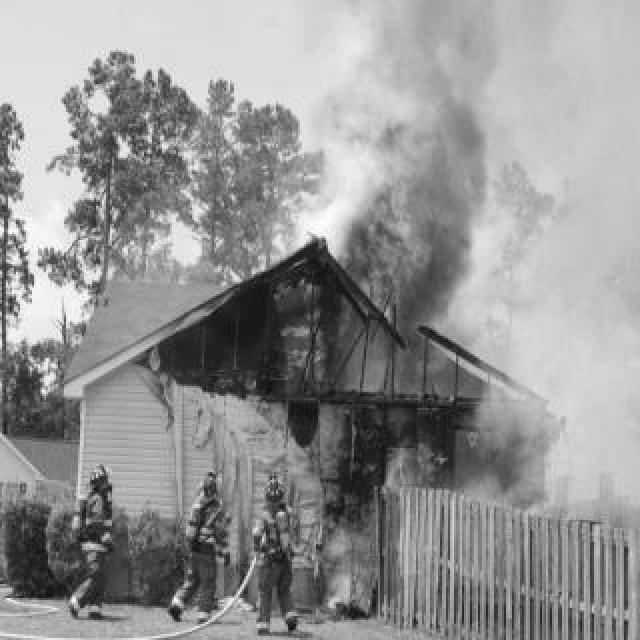Fire: (346, 152, 430, 294)
Smoke: (312, 2, 430, 152)
